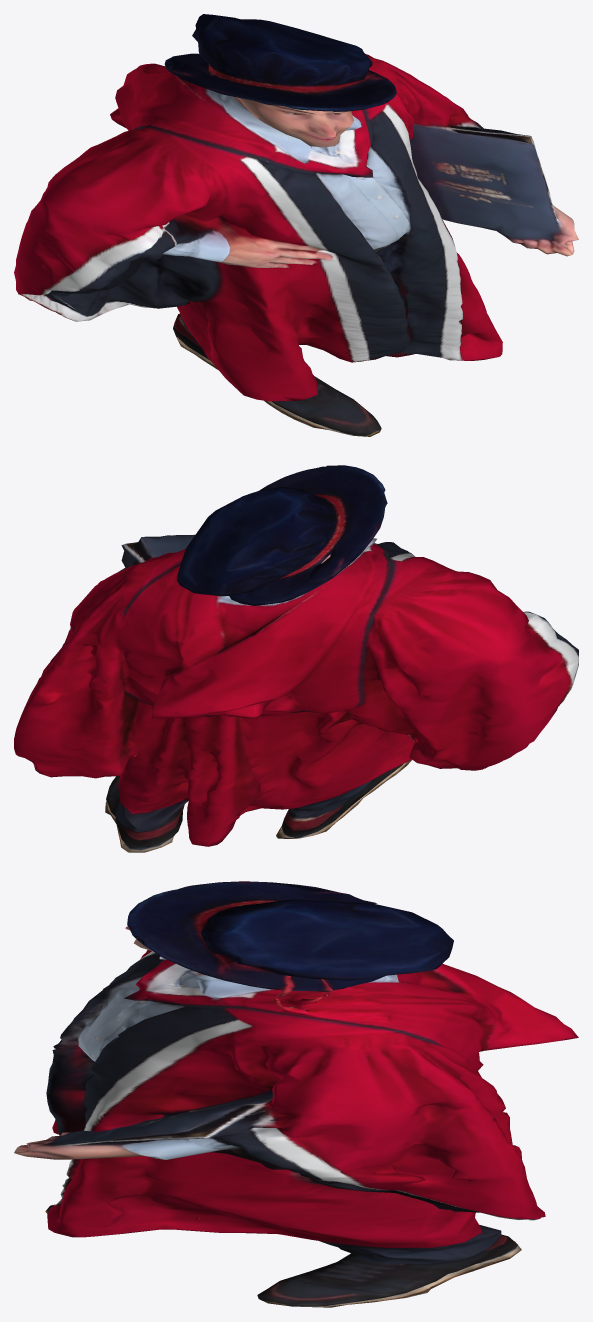
The model's file is StillGown_02_block_jpg.glb.
The picture shows the model from 3 angles, top to bottom: view 1: azimuth 30°, elevation 25°; view 2: azimuth 150°, elevation 25°; view 3: azimuth 270°, elevation 25°; orthographic projection. The views are drawn at different scales.
Visible parts, largest first — view 1: frame_0; view 2: frame_0; view 3: frame_0.
Boxes of the visible parts, bbox=[...] form: frame_0: bbox=[14, 14, 578, 436]; frame_0: bbox=[14, 465, 578, 852]; frame_0: bbox=[14, 881, 578, 1307].
Size of the model in its own units: 1.6 by 0.9618 by 1.54.
Materials: 1 (1 with a texture image).
